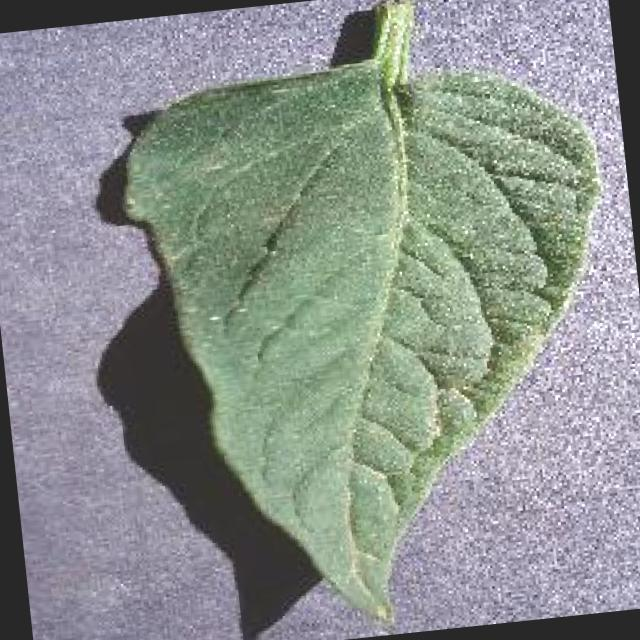healthy: (116, 0, 603, 623)
